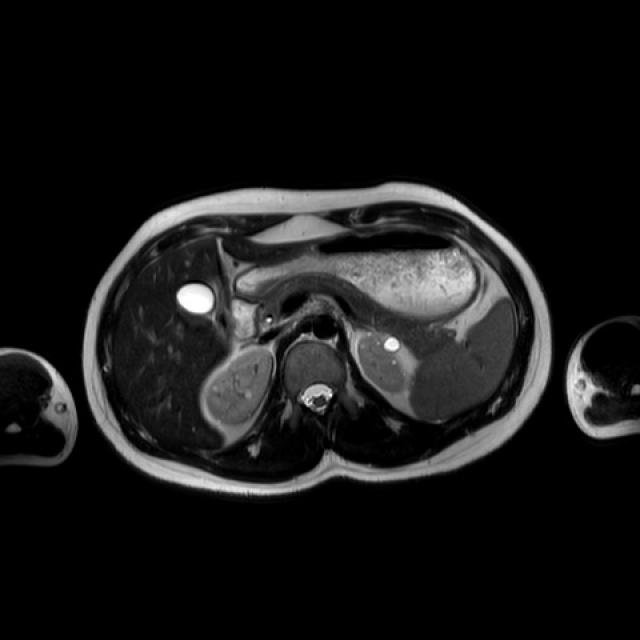sag: (207, 349, 273, 425)
sol: (356, 333, 406, 394)
